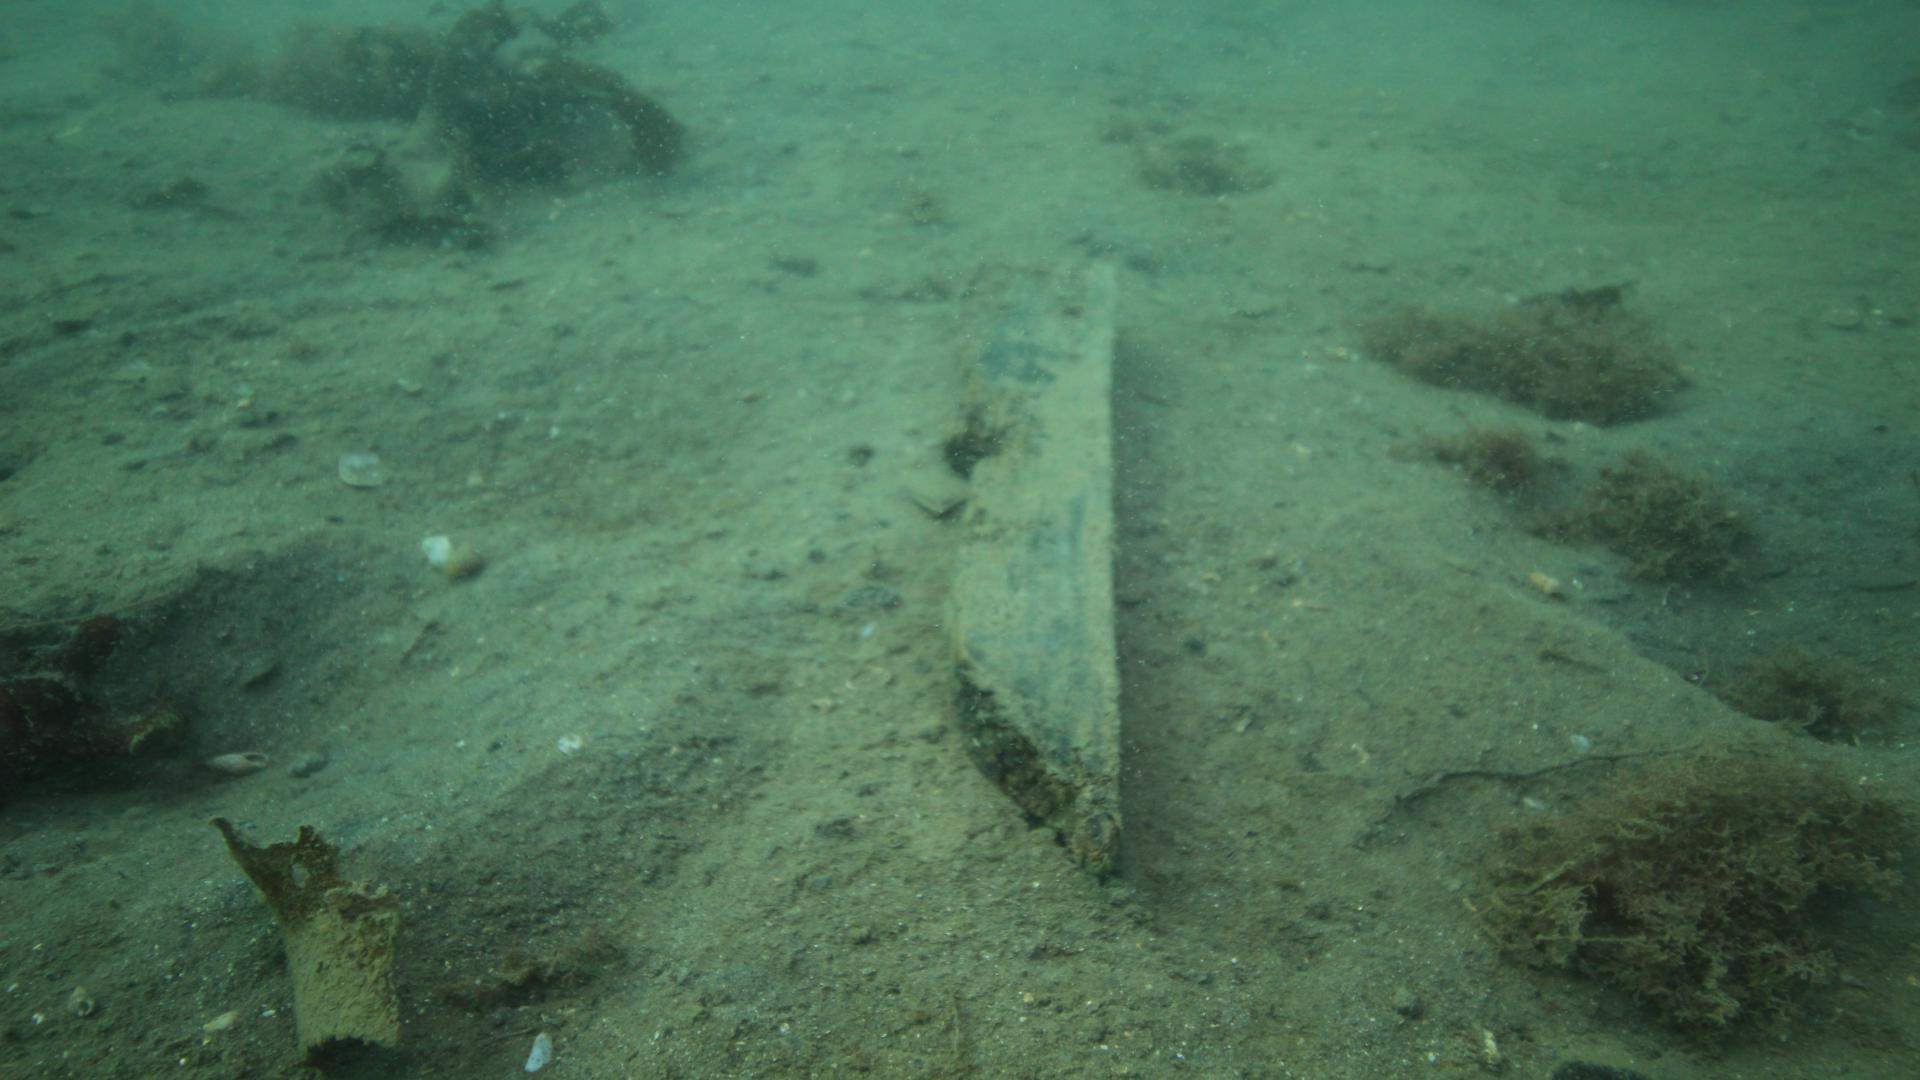wood: (940, 258, 1125, 885)
